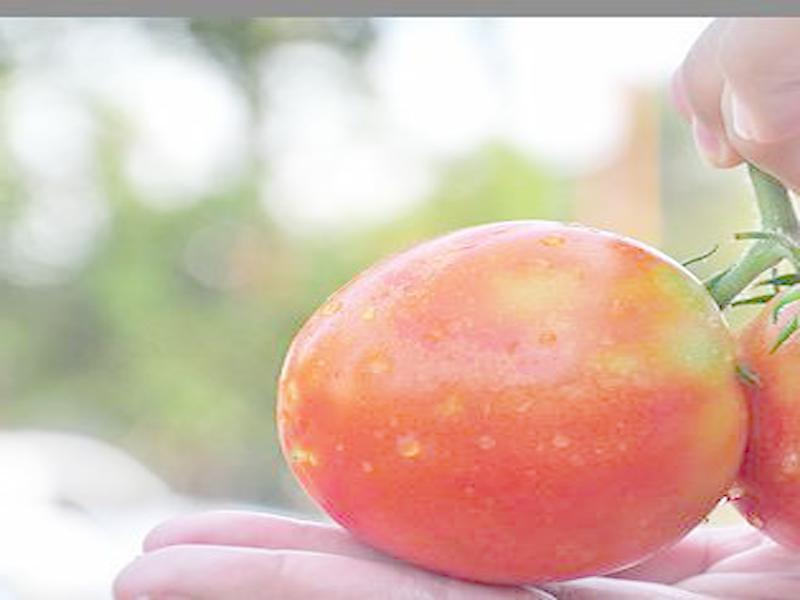Tomato: (278, 219, 743, 581)
